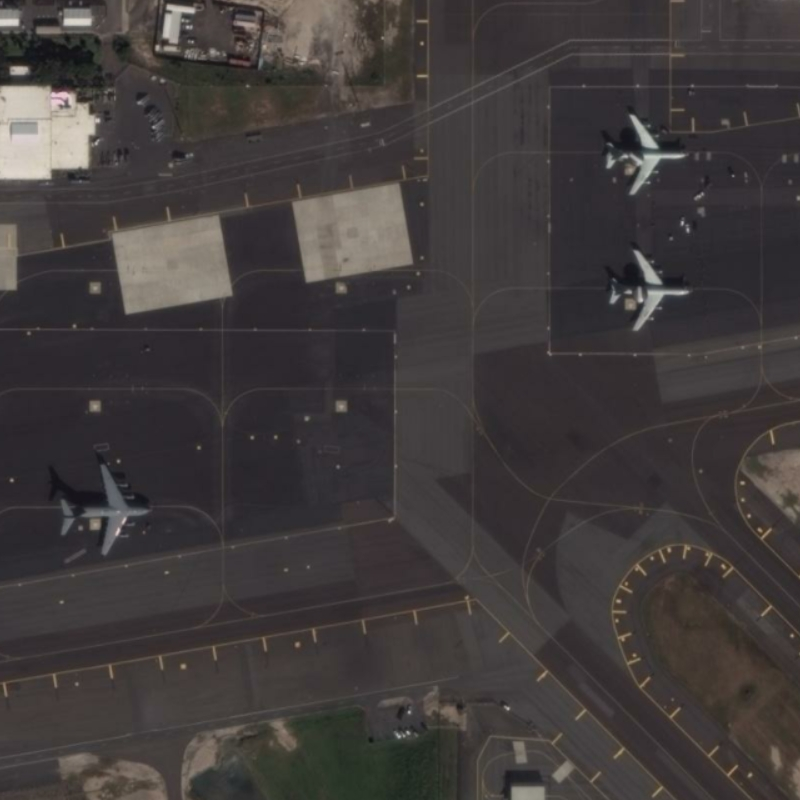A3: (53, 458, 155, 561)
A7: (602, 107, 694, 201), (602, 245, 696, 337)
